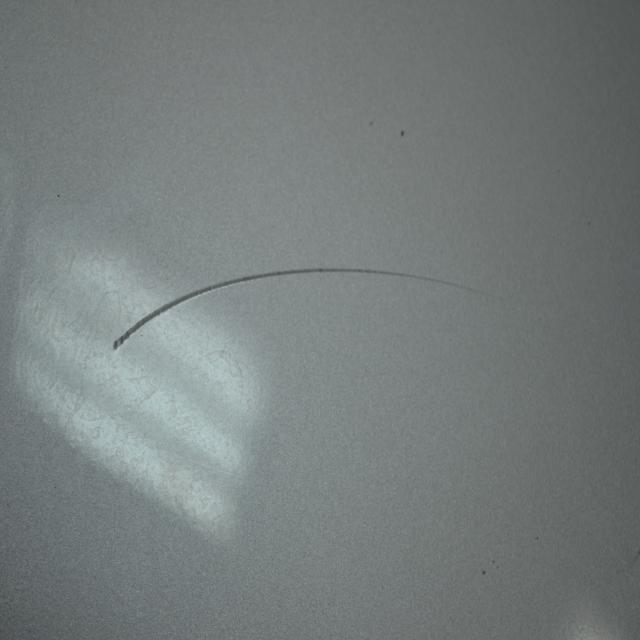dirt: (366, 116, 375, 129), (398, 126, 406, 139)
scratch: (107, 259, 503, 364)
